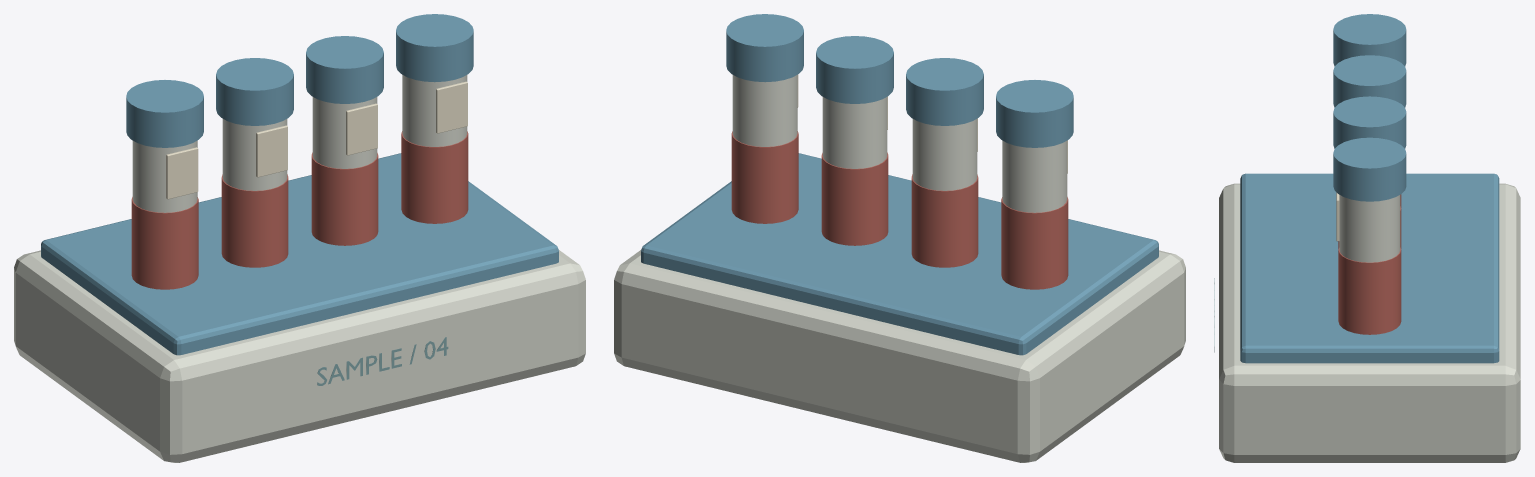
The model's file is loot_blood_kit.glb.
3 views of the same model, side by side, from view 1: azimuth 30°, elevation 25°; view 2: azimuth 150°, elevation 25°; view 3: azimuth 270°, elevation 25° (orthographic). The views are drawn at different scales.
Parts seen in each view (by area): view 1: loot_blood_kit; view 2: loot_blood_kit; view 3: loot_blood_kit.
Part boxes in pixels (left/top/right/bottom): loot_blood_kit: left=14, top=14, right=585, bottom=462; loot_blood_kit: left=614, top=14, right=1185, bottom=462; loot_blood_kit: left=1214, top=14, right=1520, bottom=462.
Bounding box in the file's own units: 0.151 × 0.1015 × 0.1006.
